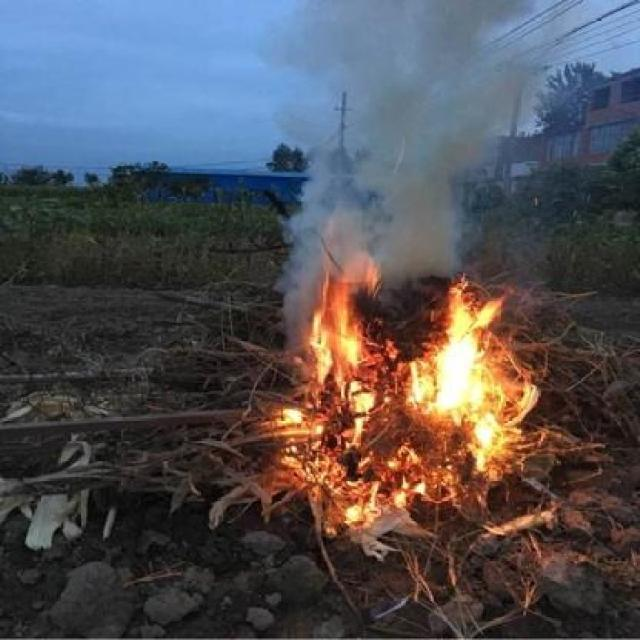Fire: (295, 249, 538, 533)
Smoke: (278, 7, 566, 254)
